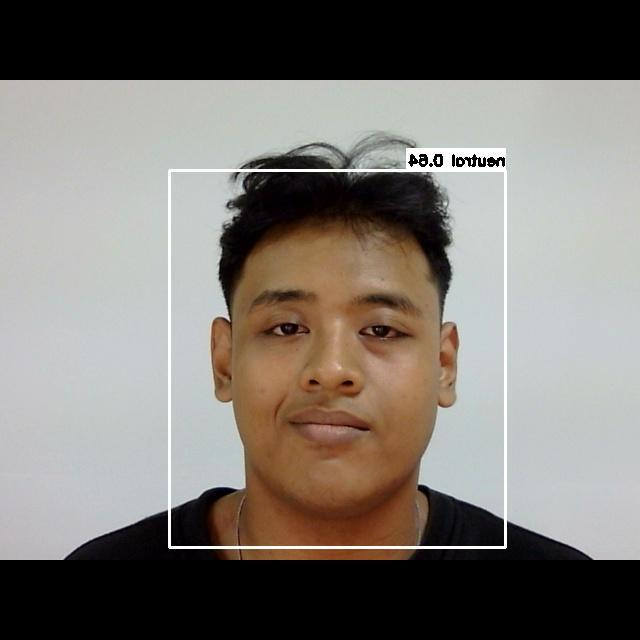Happy: (224, 261, 442, 479)
